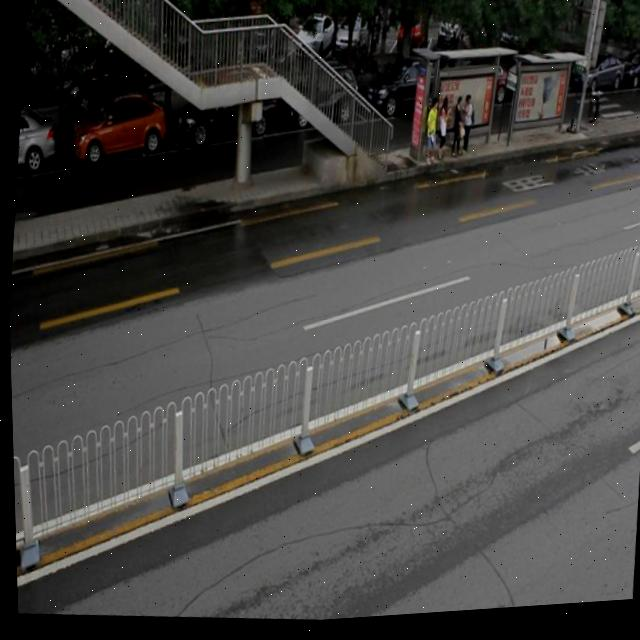car: (174, 62, 280, 154), (67, 91, 168, 172), (361, 54, 446, 127), (280, 66, 359, 137), (14, 111, 59, 183)
